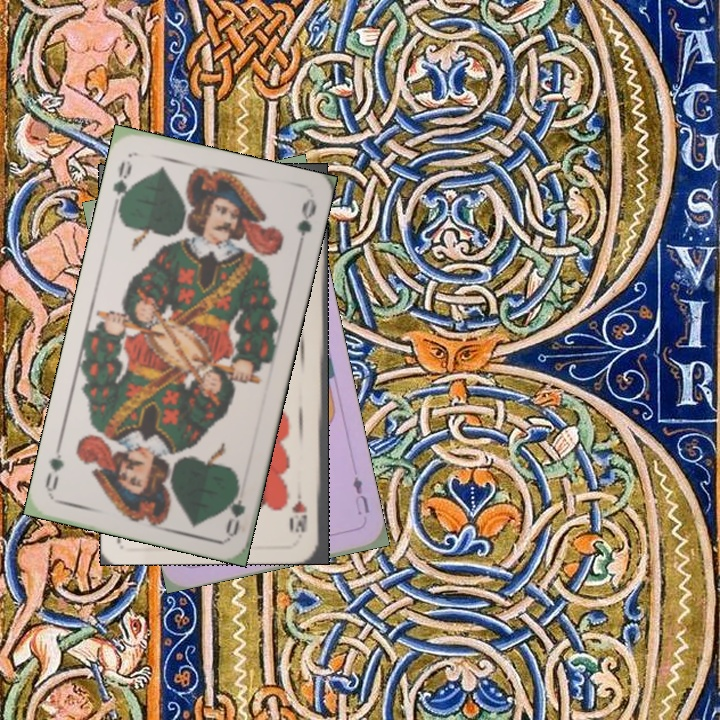EU: (348, 472, 372, 518)
GO: (221, 477, 248, 537), (108, 156, 136, 212)
H10: (293, 479, 310, 535)
